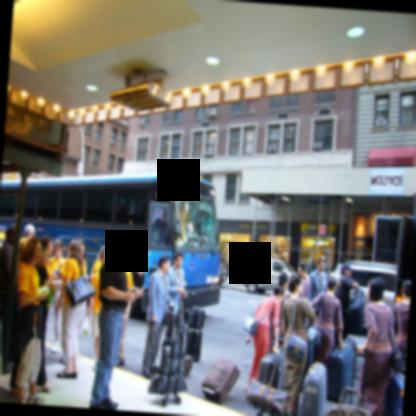handbag: (323, 386, 371, 416), (285, 300, 308, 361), (388, 305, 404, 376), (66, 275, 97, 309), (306, 292, 324, 345), (244, 304, 271, 336)
suitcase: (202, 343, 248, 403), (245, 377, 289, 416), (327, 343, 354, 401), (299, 361, 327, 416), (383, 372, 405, 416), (159, 345, 185, 375), (349, 288, 364, 337), (187, 291, 206, 329), (258, 352, 279, 385), (269, 350, 285, 391), (185, 326, 202, 362), (332, 401, 371, 416), (343, 336, 356, 353)
